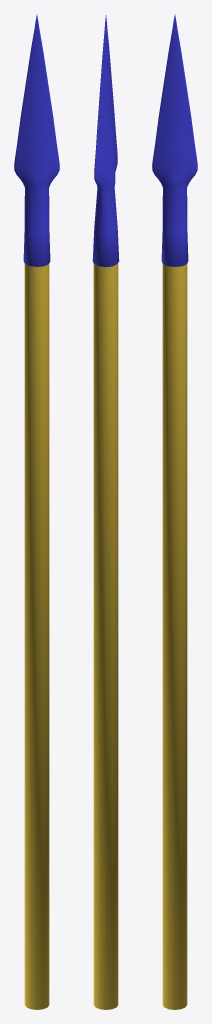
File: Spear.fbx
3 renders of one model, left to right at view 1: azimuth 90°, elevation 25°; view 2: azimuth 150°, elevation 25°; view 3: azimuth 270°, elevation 25°, orthographic.
Visible parts, largest first — view 1: kopie_lp002; view 2: kopie_lp002; view 3: kopie_lp002.
Part boxes in pixels (x1,y1,x2,y2): kopie_lp002: (14, 14, 59, 1009); kopie_lp002: (92, 15, 119, 1009); kopie_lp002: (152, 14, 197, 1009).
Size of the model in its own units: 3.18 by 133 by 5.57.
